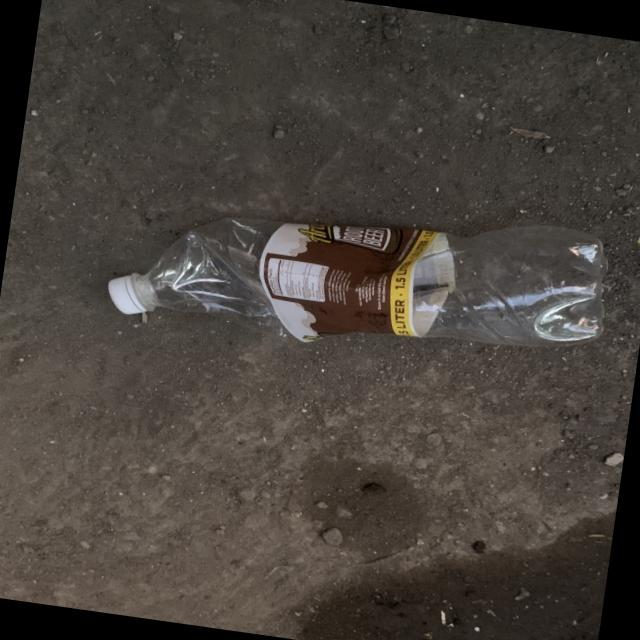Bottle: (108, 219, 608, 345)
